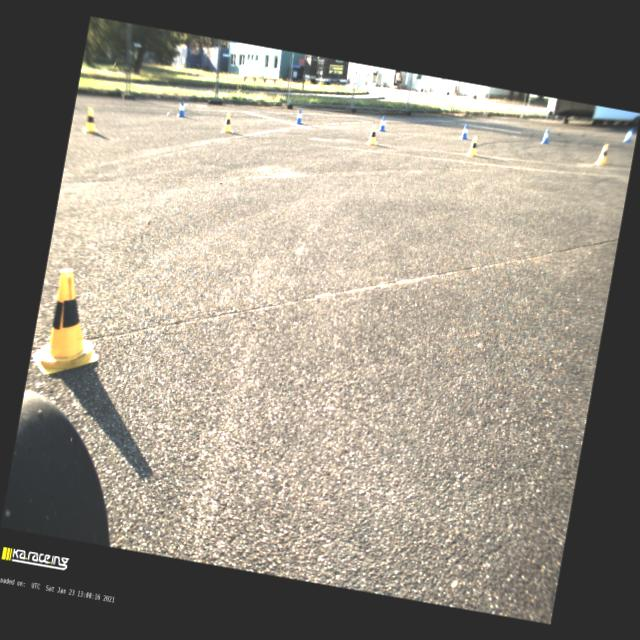blue_cone: (176, 100, 188, 118), (459, 122, 470, 140), (294, 108, 304, 125), (622, 127, 632, 143), (540, 128, 550, 144), (378, 115, 387, 131)
yellow_cone: (28, 264, 112, 383), (80, 106, 102, 135), (593, 142, 608, 166), (220, 112, 236, 134), (466, 134, 480, 158), (366, 125, 379, 146)
